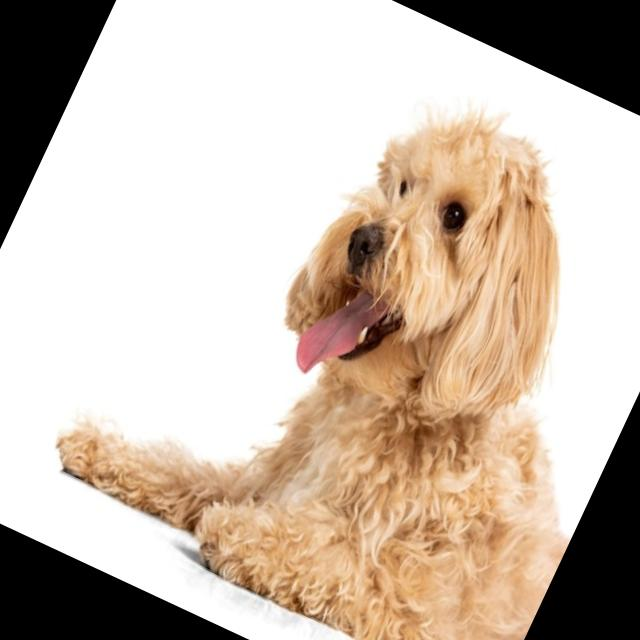Dog: (32, 11, 640, 640)
